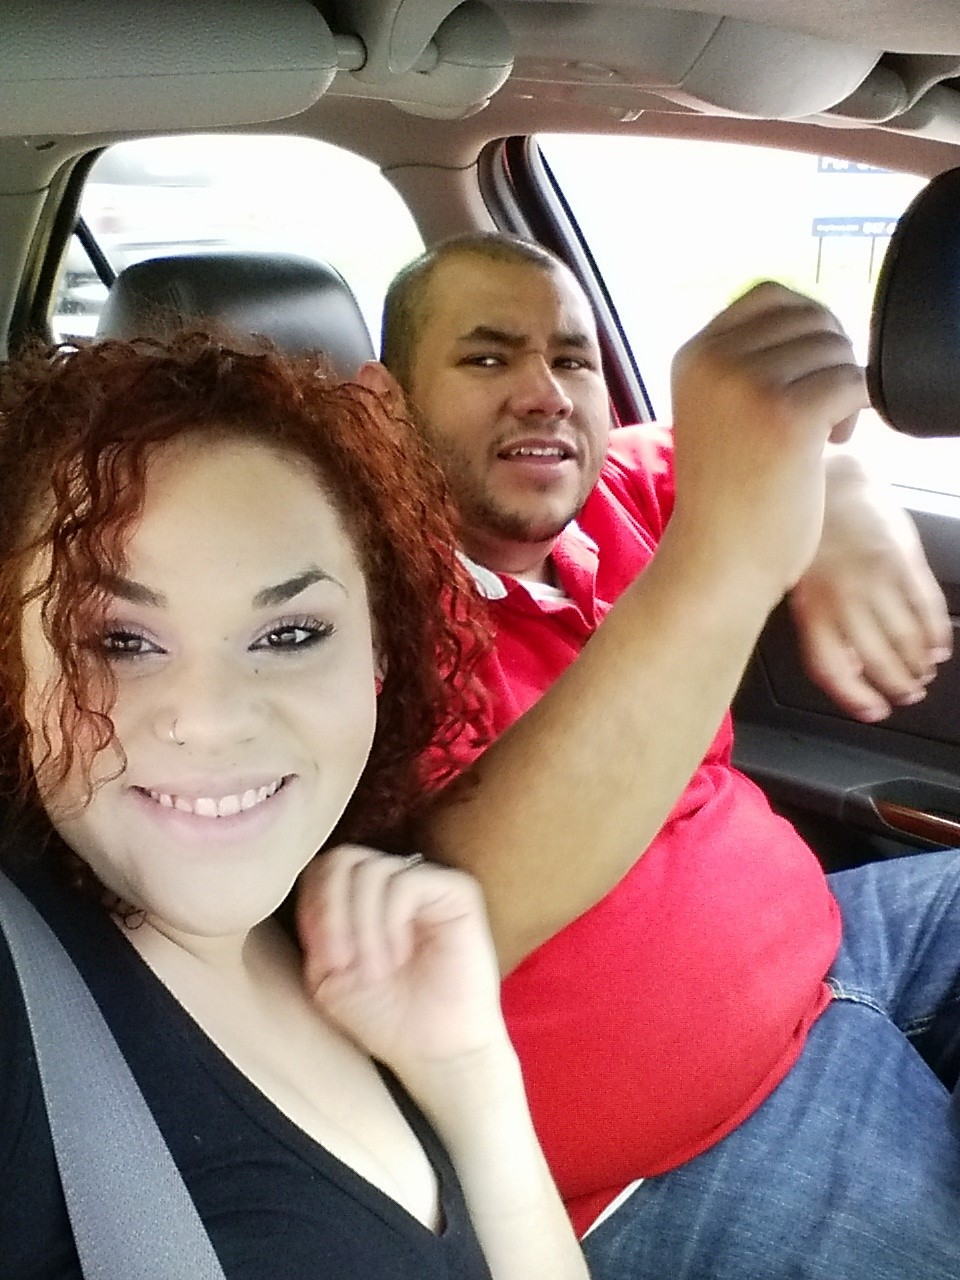face_no_mask: (1, 343, 418, 952), (382, 231, 620, 566)
